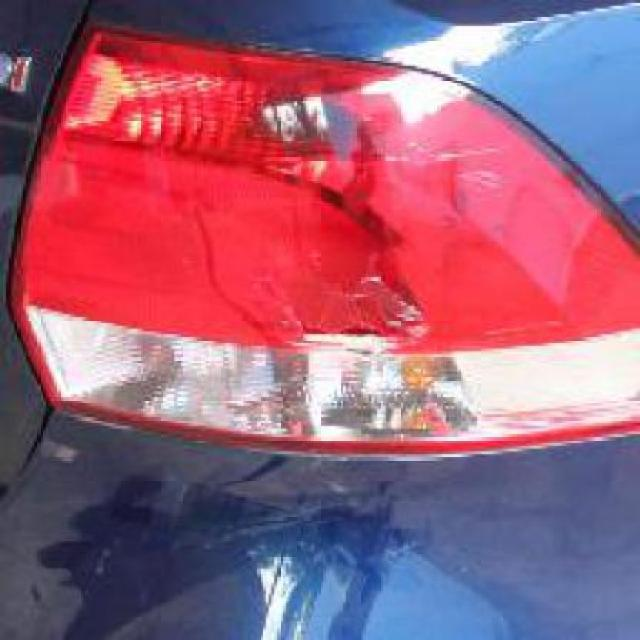damaged-tail-light: (12, 22, 638, 458)
